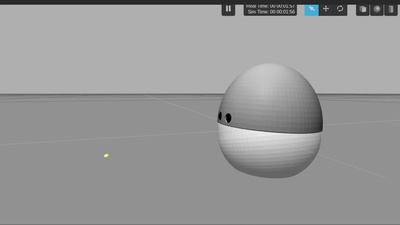mira_robot: (217, 63, 323, 178)
